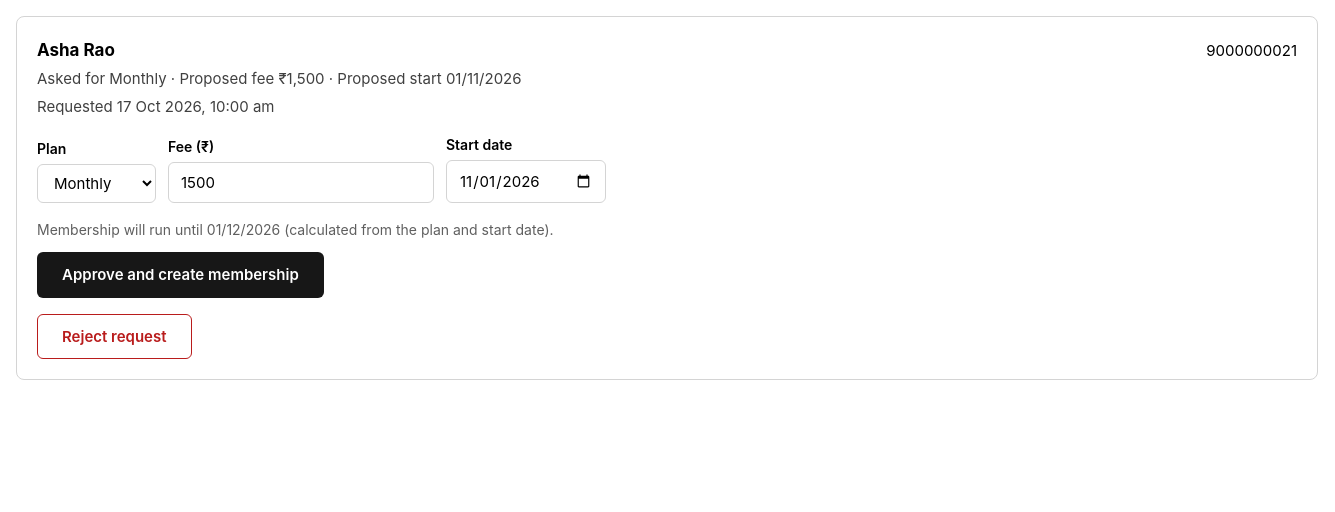
Test case: JoinRequestsManager › requires the second step to reject, and Cancel disarms it
Check: the text "Confirm rejection" is not shown
Click the button "Reject request". click: {"x": 114, "y": 336}
box: [37,314,192,359]
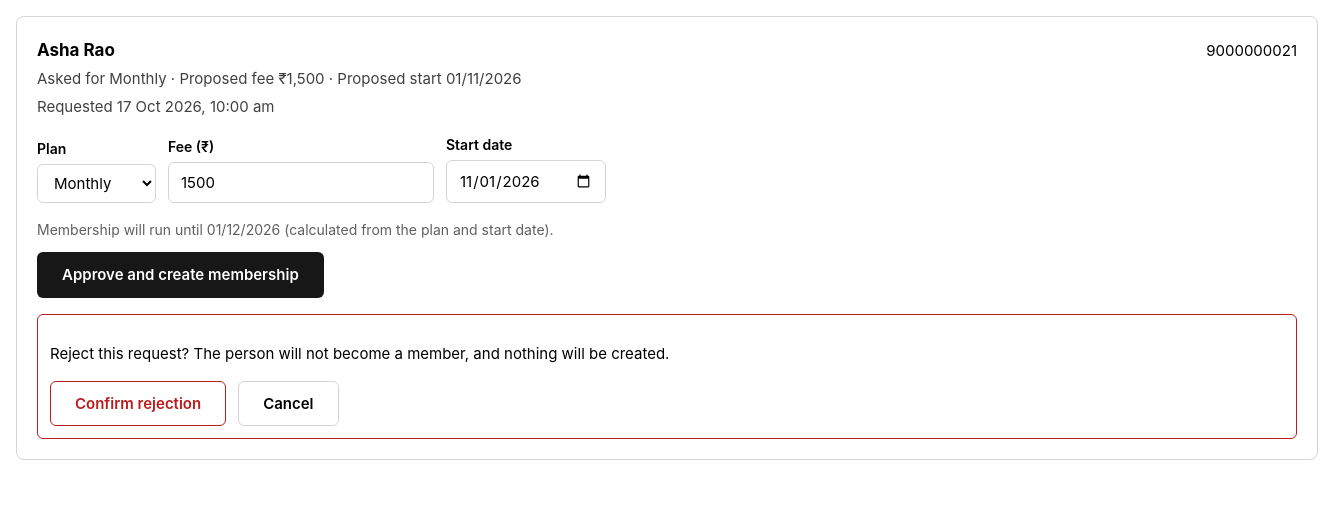
Check: the text "will not become a member" is shown, box [50,344,669,363]
Click the button "Cancel". click: {"x": 288, "y": 404}
box: [238,381,339,426]
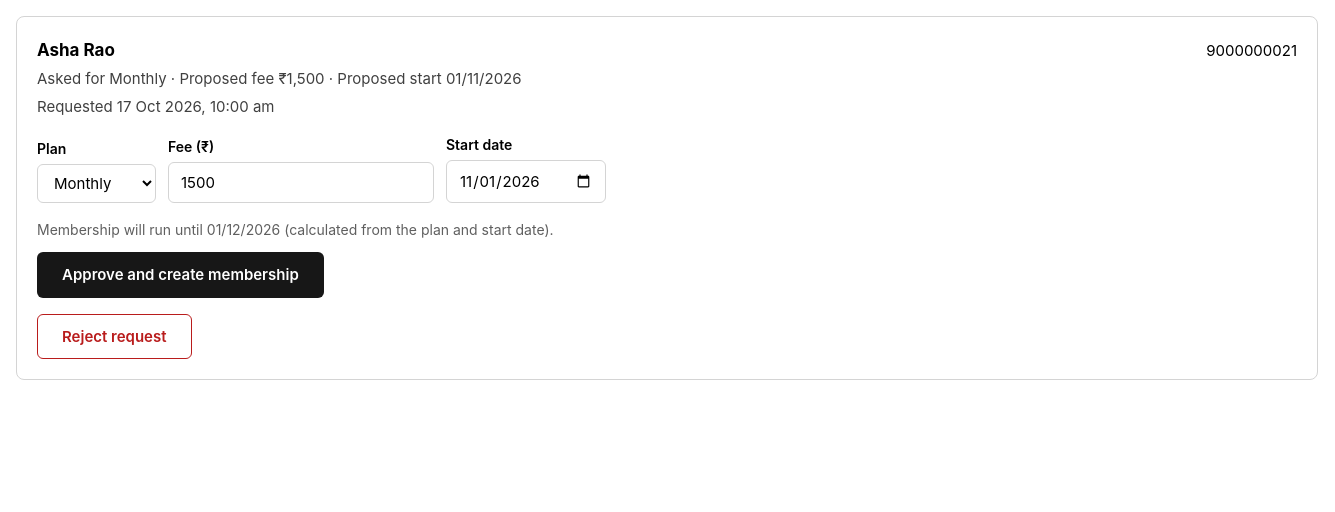
Check: the text "Confirm rejection" is gone
Click the button "Reject request". click: {"x": 114, "y": 336}
box: [37,314,192,359]
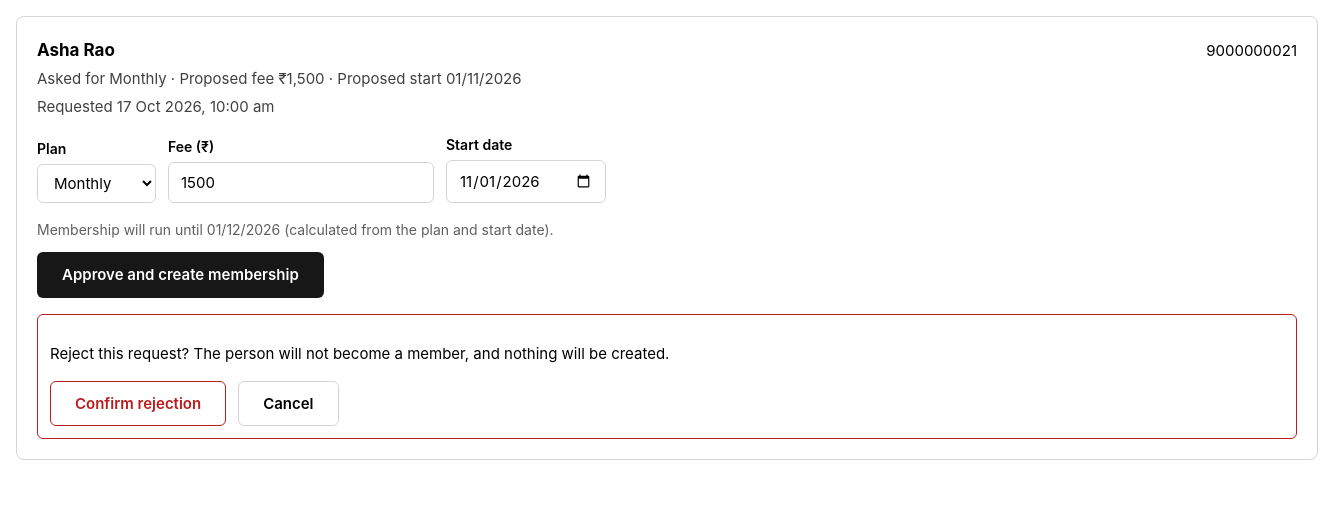
Submit the form "Confirm rejection", box [50,381,226,426]
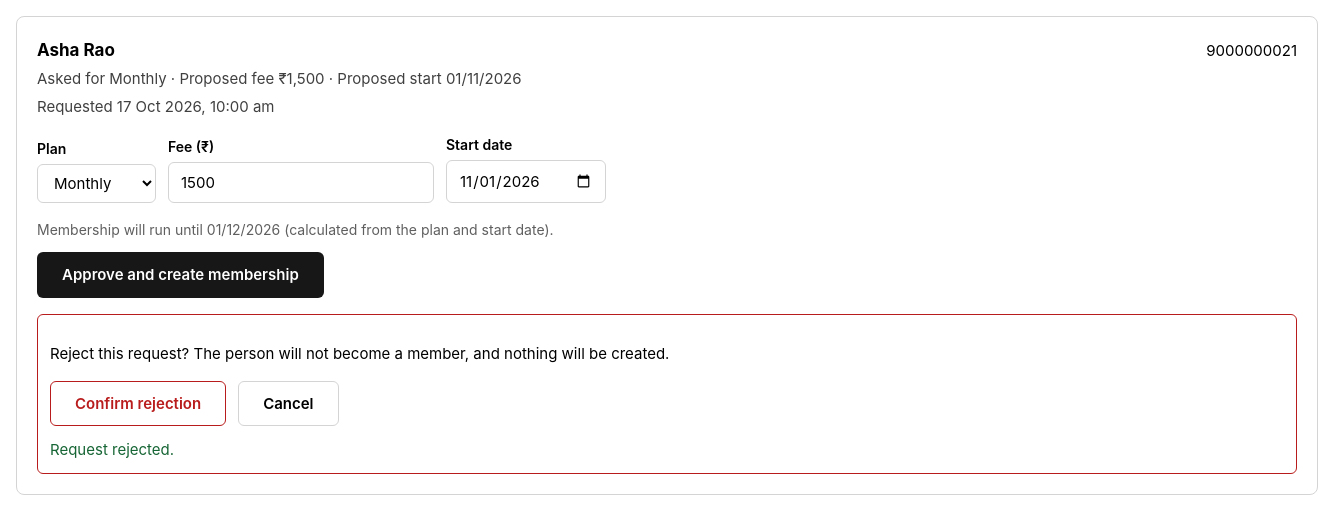
Check: the text "Request rejected." is shown, box [50,440,174,459]
